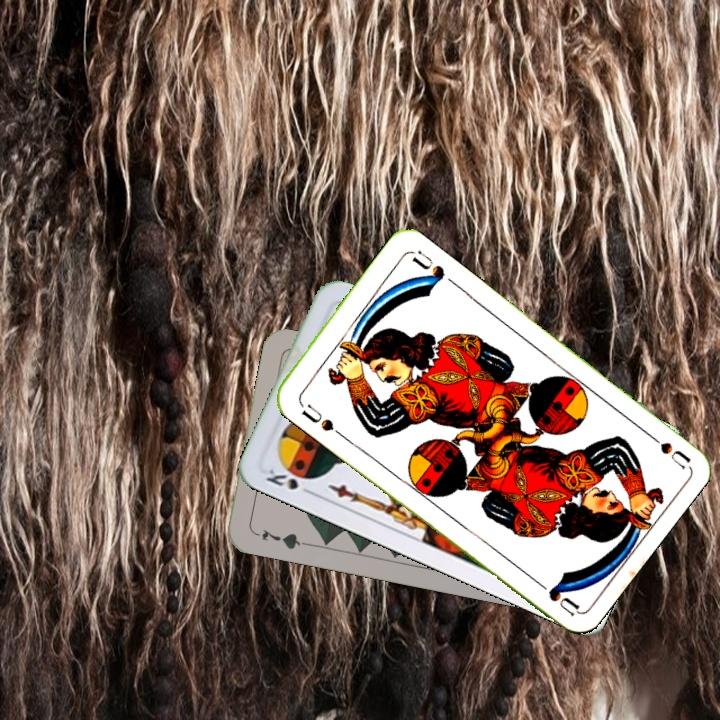G7: (250, 525, 309, 552)
SK: (262, 462, 317, 498)
SU: (639, 425, 692, 471), (297, 400, 345, 439)
